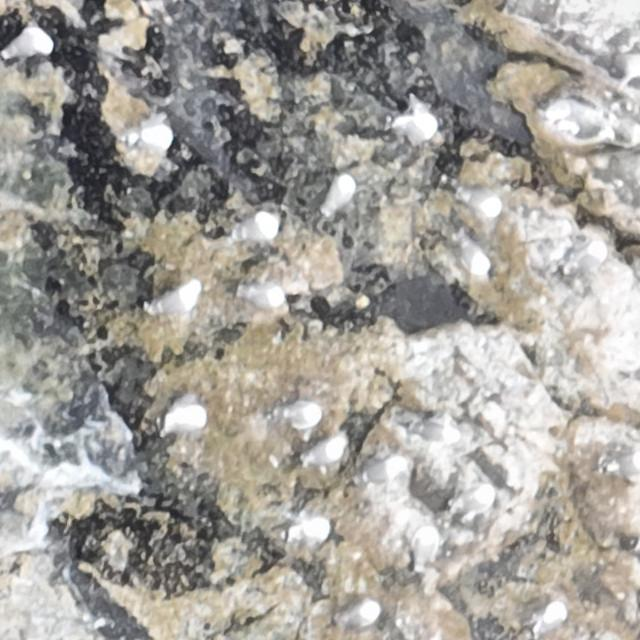umineko: (448, 181, 504, 220), (1, 26, 52, 65), (151, 281, 204, 316), (453, 229, 491, 277), (394, 102, 438, 141), (271, 398, 323, 431), (278, 512, 330, 544), (291, 436, 346, 466), (330, 599, 386, 628), (128, 121, 177, 153), (451, 483, 495, 518), (322, 174, 354, 221), (406, 526, 436, 576), (234, 212, 281, 243), (239, 282, 285, 312), (412, 420, 459, 449), (359, 459, 409, 485), (166, 398, 204, 432), (536, 600, 568, 632)
